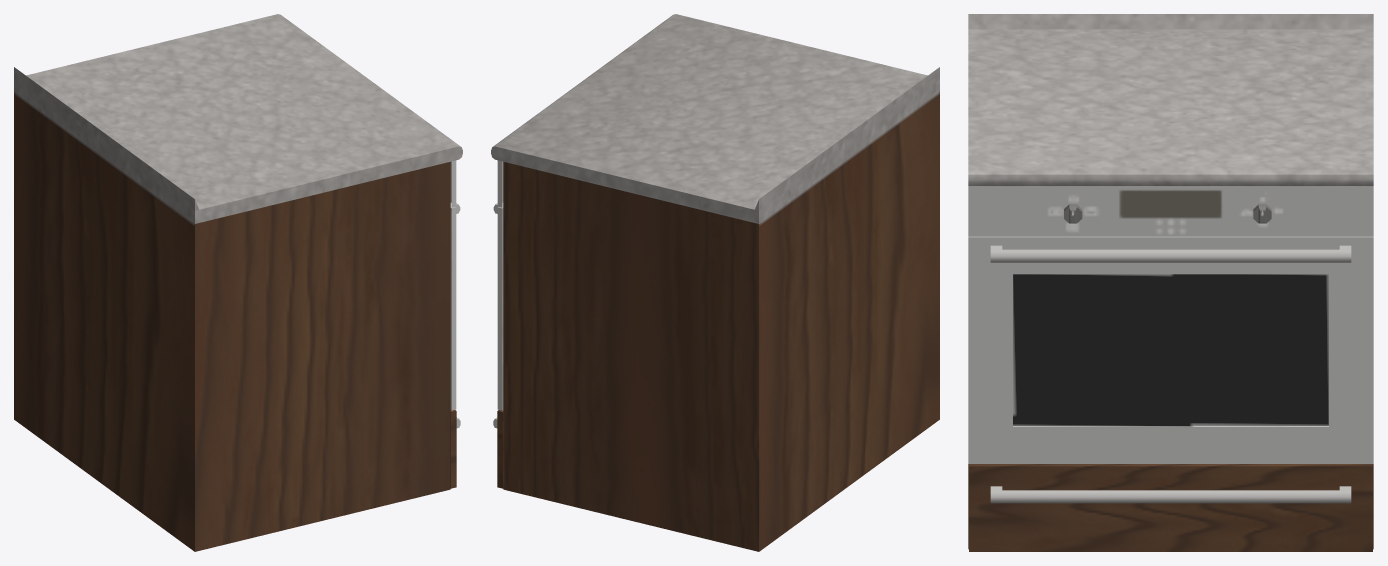
Rendered from CabinetWithOven.glb.
The picture shows the model from 3 angles, left to right: view 1: azimuth 30°, elevation 25°; view 2: azimuth 150°, elevation 25°; view 3: azimuth 270°, elevation 25°; orthographic projection. The views are drawn at different scales.
Parts seen in each view (by area): view 1: KitchenCabinetWithOven; view 2: KitchenCabinetWithOven; view 3: KitchenCabinetWithOven.
Part boxes in pixels (box(x1,y1,x2,y2)): KitchenCabinetWithOven: box(14, 14, 462, 551); KitchenCabinetWithOven: box(491, 14, 939, 551); KitchenCabinetWithOven: box(968, 14, 1373, 551).
Bounding box in the file's own units: 0.7043 × 0.8606 × 0.8.
Materials: 1 (1 with a texture image).
